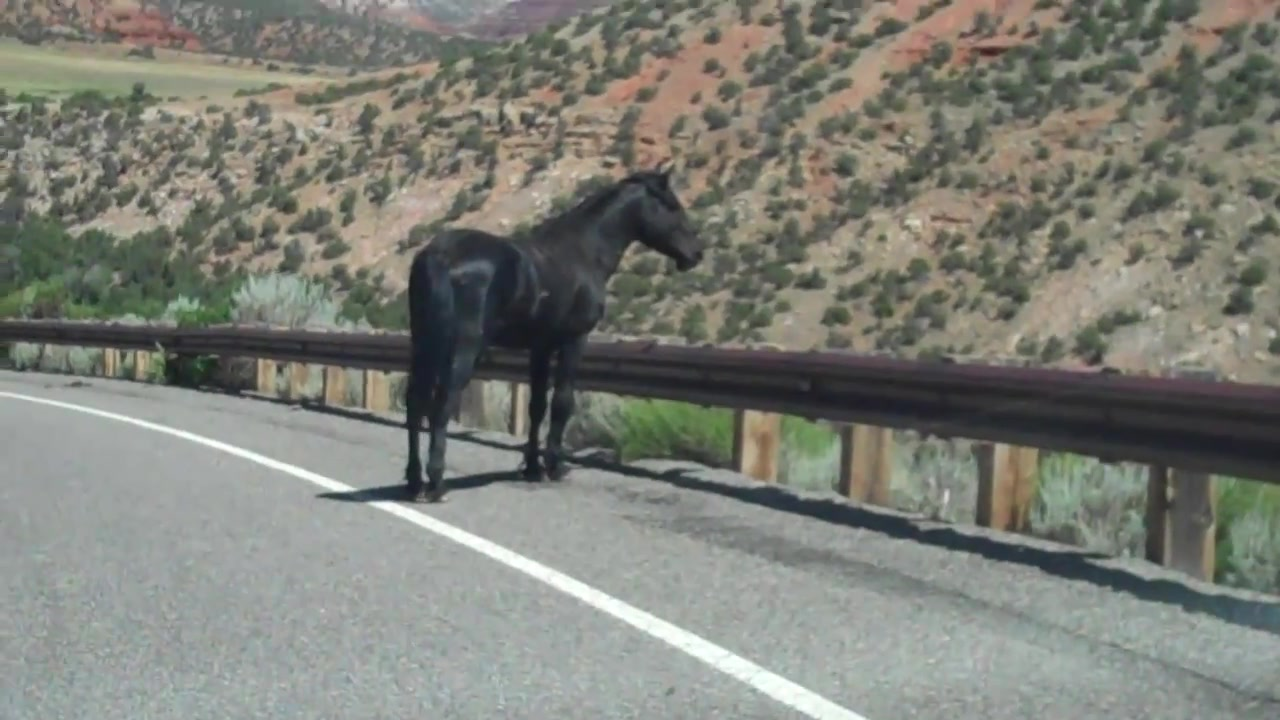horse: (405, 157, 708, 505)
